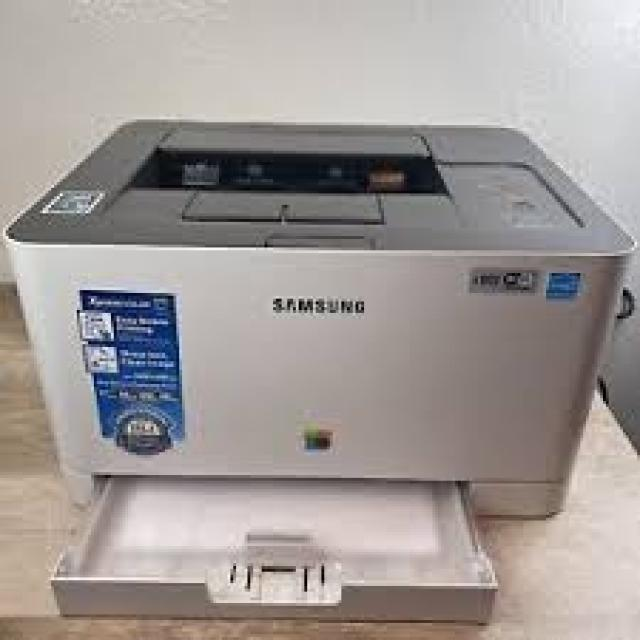printer: (2, 116, 639, 624)
